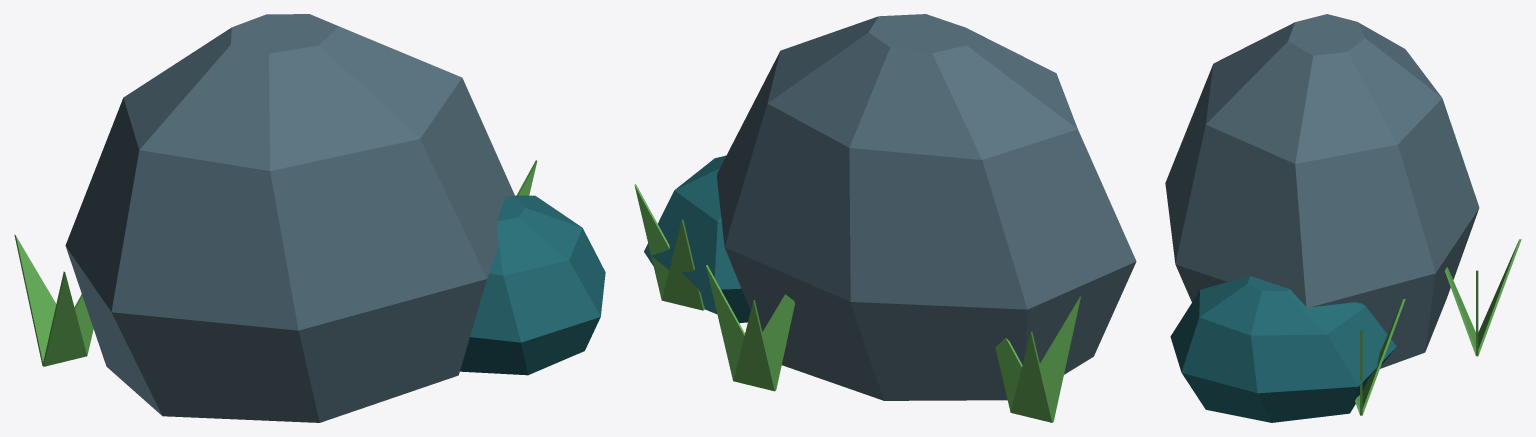
The model's file is prop_deco_01.glb.
3 views of the same model, side by side, from view 1: azimuth 30°, elevation 25°; view 2: azimuth 150°, elevation 25°; view 3: azimuth 270°, elevation 25° (orthographic). The views are drawn at different scales.
Visible parts, largest first — view 1: prop_deco_01__RockGarden; view 2: prop_deco_01__RockGarden; view 3: prop_deco_01__RockGarden.
Part boxes in pixels (box(x1,y1,x2,y2)): prop_deco_01__RockGarden: box(14, 14, 605, 422); prop_deco_01__RockGarden: box(634, 14, 1136, 422); prop_deco_01__RockGarden: box(1165, 14, 1521, 422).
Bounding box in the file's own units: 2.89 × 1.85 × 2.15.
